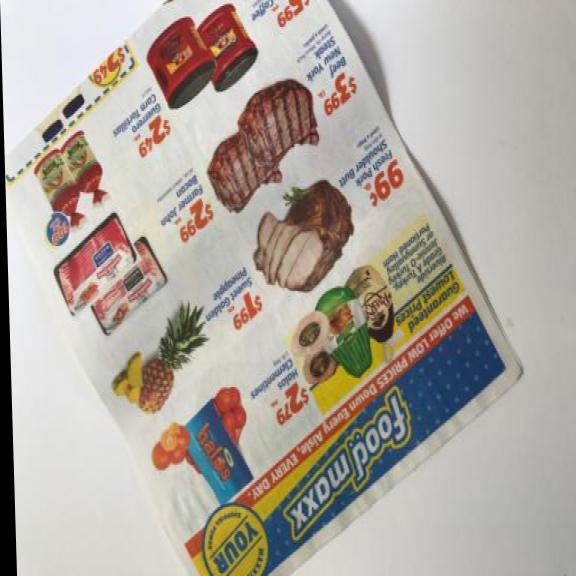Kertas: (0, 0, 530, 576)
